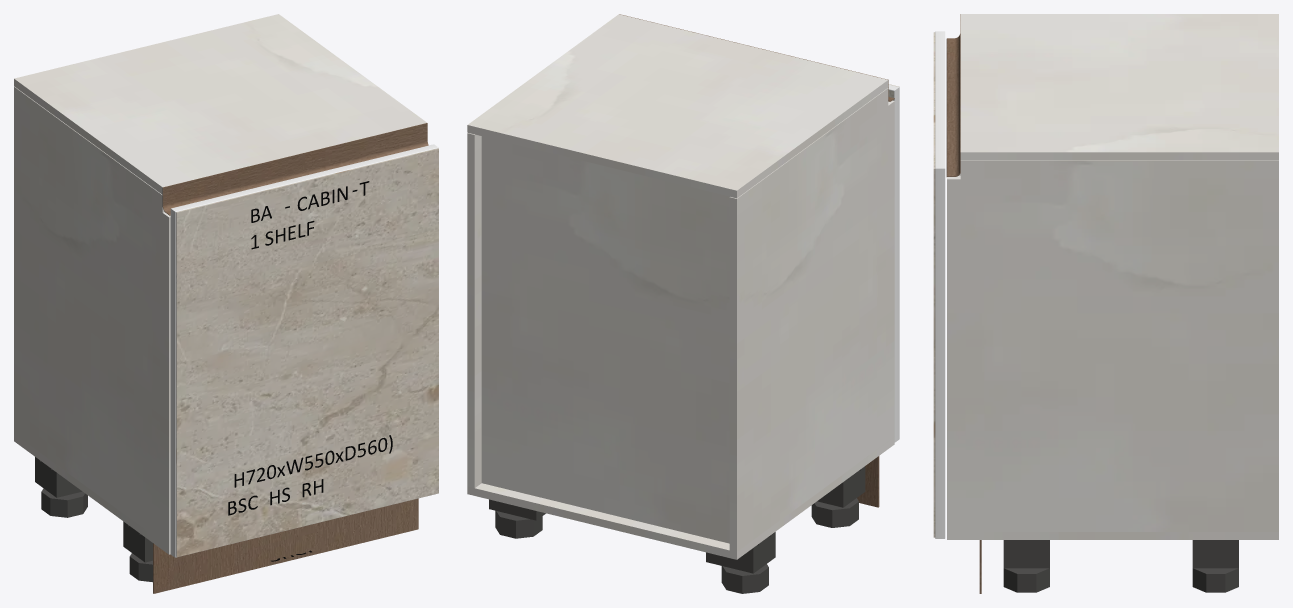
The picture shows the model from 3 angles, left to right: view 1: azimuth 30°, elevation 25°; view 2: azimuth 150°, elevation 25°; view 3: azimuth 270°, elevation 25°; orthographic projection. The views are drawn at different scales.
Size of what is drawn, in the model's own units: 0.55 by 0.82 by 0.5899.
6 materials, 3 textured.
